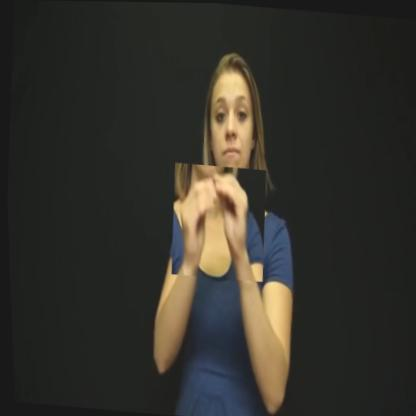Fix: (166, 162, 268, 281)
